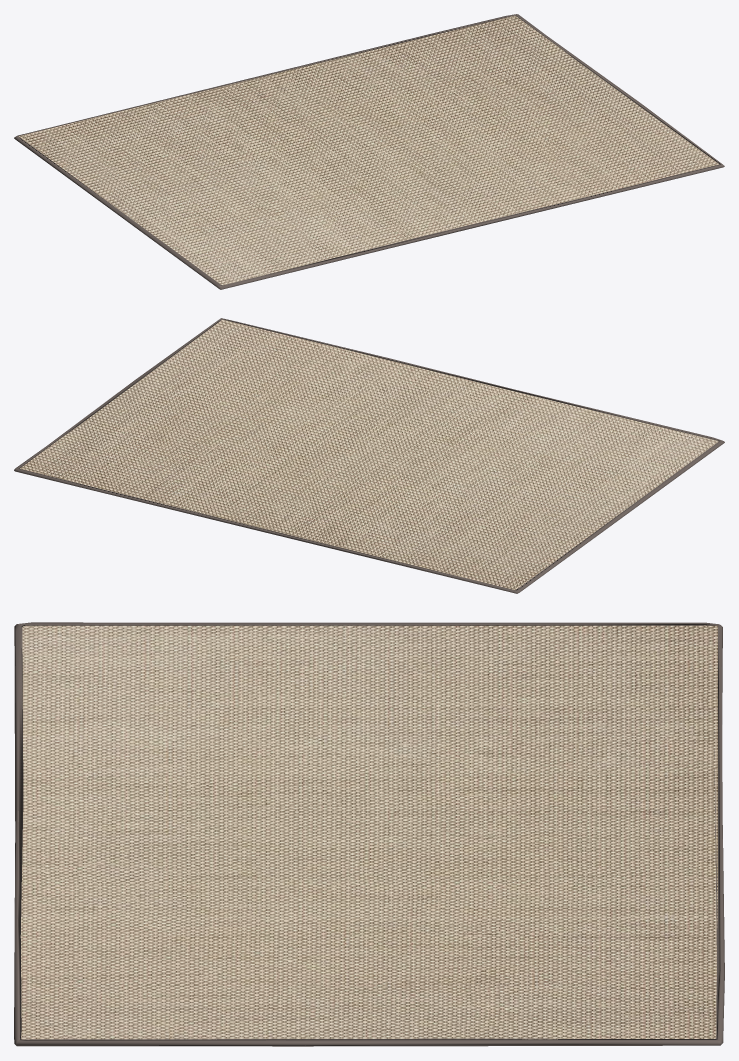
File: abo-B0719SX5T7.glb
3 renders of one model, top to bottom at view 1: azimuth 30°, elevation 25°; view 2: azimuth 150°, elevation 25°; view 3: azimuth 270°, elevation 25°, orthographic. The views are drawn at different scales.
Visible parts, largest first — view 1: RootNode; view 2: RootNode; view 3: RootNode.
Part boxes in pixels (x1,y1,x2,y2): RootNode: (14,14,724,289); RootNode: (14,318,724,593); RootNode: (14,622,724,1046).
Size of the model in its own units: 2.13 by 0.012 by 1.52.
1 material, 1 textured.
